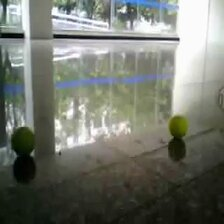tennis: (12, 126, 35, 156), (168, 115, 188, 138)
